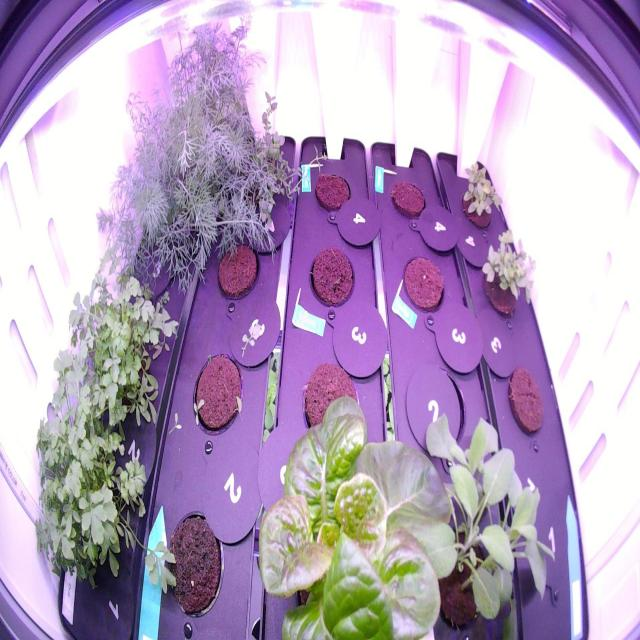empty_pod: (401, 358, 470, 464), (520, 488, 578, 605), (132, 234, 176, 301)
germination: (471, 224, 538, 317), (459, 156, 509, 236)
pod: (159, 501, 227, 629), (294, 356, 368, 462), (188, 345, 246, 443), (502, 356, 549, 449), (304, 242, 357, 316), (210, 230, 260, 308), (397, 250, 447, 324), (308, 164, 355, 220), (386, 170, 430, 229)
young: (247, 382, 463, 636)
